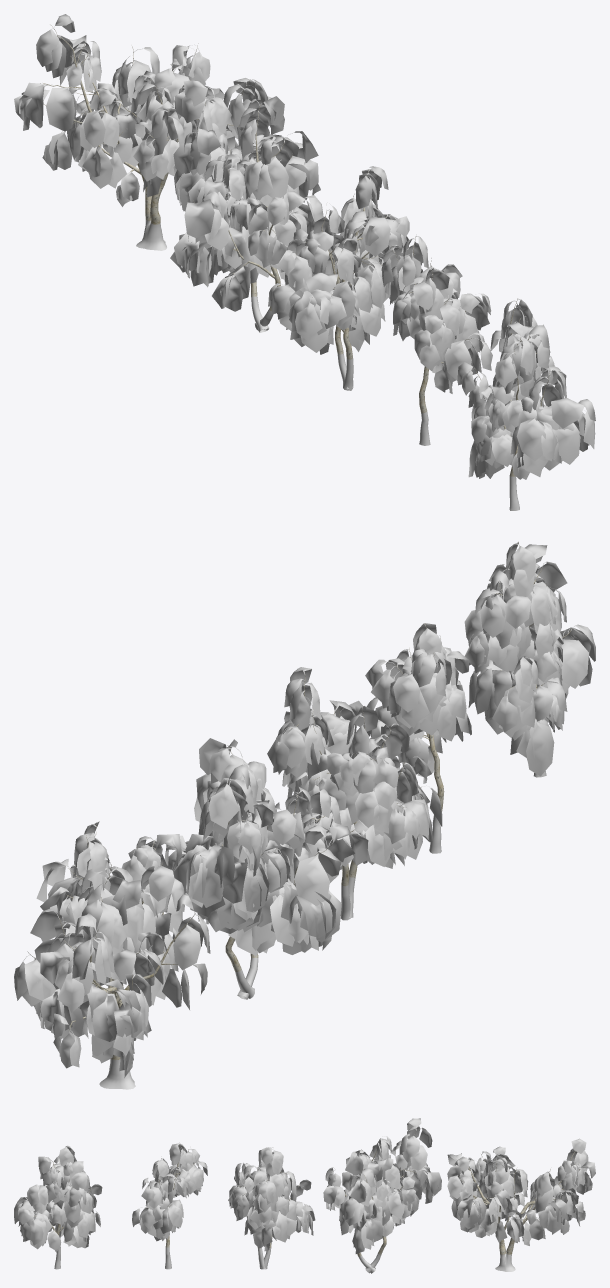
File: Birch_trees_pack.fbx
The picture shows the model from 3 angles, top to bottom: view 1: azimuth 30°, elevation 25°; view 2: azimuth 150°, elevation 25°; view 3: azimuth 270°, elevation 25°; orthographic projection. The views are drawn at different scales.
Parts seen in each view (by area): view 1: Birch_4, Birch_5, Birch_3, Birch, Birch_2; view 2: Birch_5, Birch_4, Birch_3, Birch, Birch_2; view 3: Birch_5, Birch_4, Birch, Birch_3, Birch_2.
Boxes of the visible parts, box(x1,y1,x2,y2) form: Birch_4: box(170, 80, 323, 332); Birch_5: box(14, 14, 284, 250); Birch_3: box(268, 166, 409, 390); Birch: box(457, 298, 595, 510); Birch_2: box(381, 236, 492, 445); Birch_5: box(14, 821, 210, 1089); Birch_4: box(164, 738, 368, 999); Birch_3: box(267, 667, 442, 920); Birch: box(464, 541, 595, 777); Birch_2: box(365, 623, 471, 853); Birch_5: box(447, 1138, 595, 1271); Birch_4: box(323, 1118, 441, 1273); Birch: box(14, 1145, 102, 1269); Birch_3: box(228, 1147, 315, 1269); Birch_2: box(132, 1143, 207, 1269).
Size of what is drawn, in the model's own units: 1142 by 1354 by 4918.
